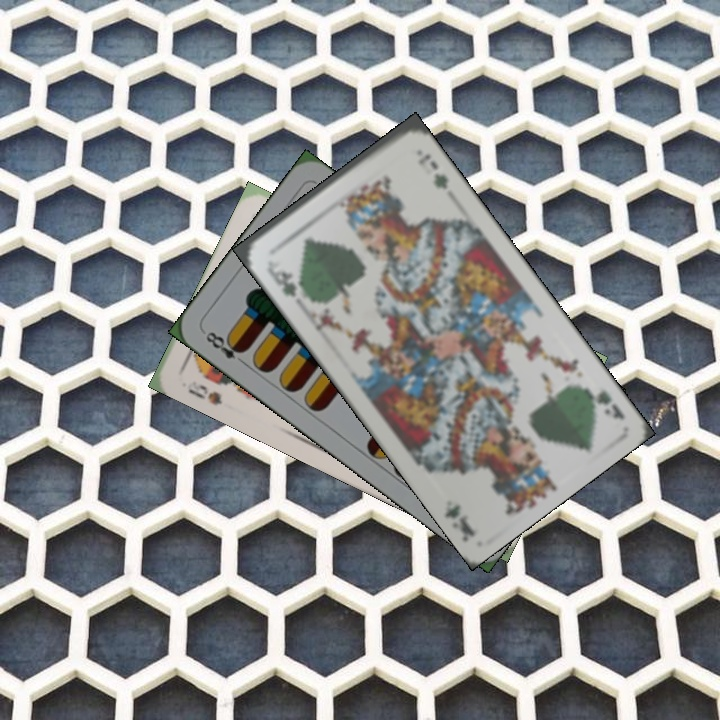E8: (201, 327, 250, 368)
GK: (577, 382, 628, 423), (264, 259, 299, 300)
S8: (182, 377, 225, 408)
